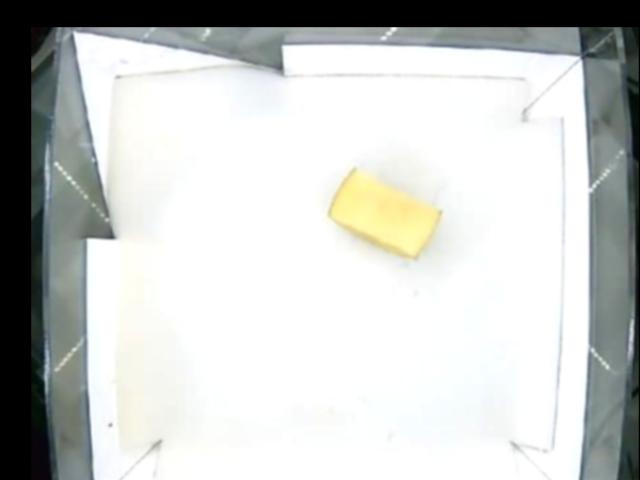Potato: (327, 168, 440, 259)
